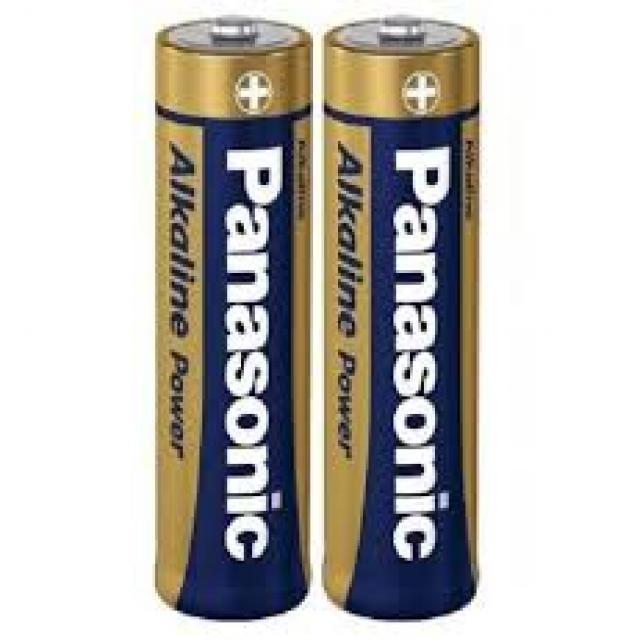battery: (322, 15, 481, 621), (156, 16, 313, 620)
